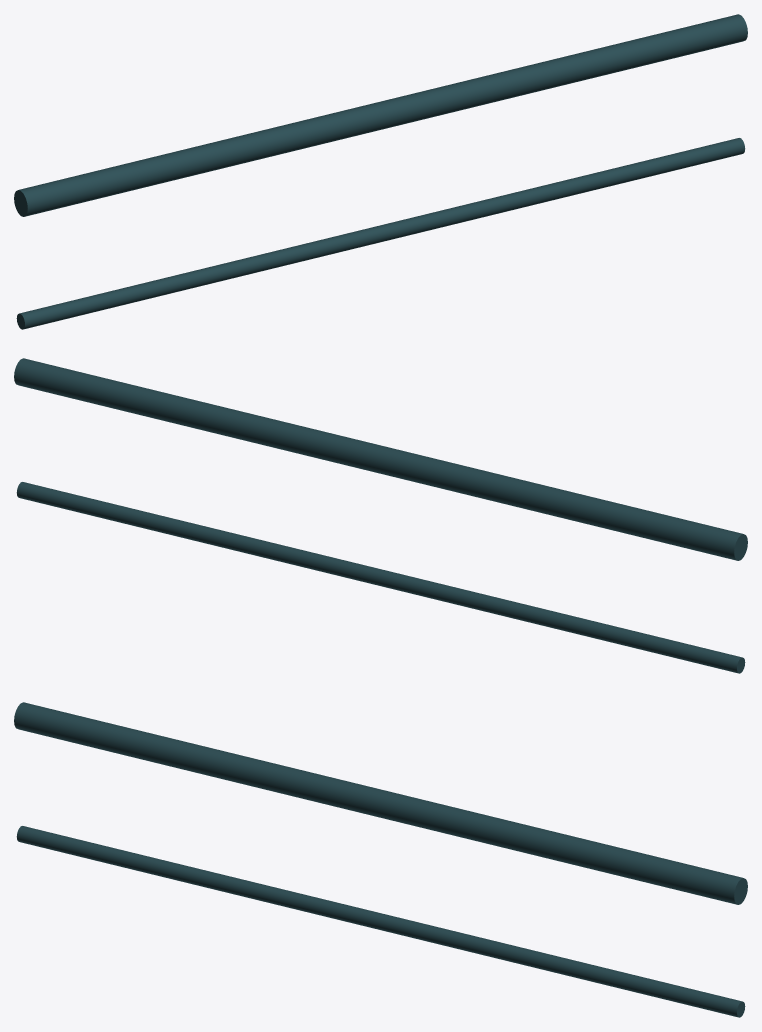
Rendered from city_quay_furniture_02_straight.glb.
The picture shows the model from 3 angles, top to bottom: view 1: azimuth 30°, elevation 25°; view 2: azimuth 150°, elevation 25°; view 3: azimuth 330°, elevation 25°; orthographic projection.
Visible parts, largest first — view 1: CityQuayFurniture02_straight_Mesh; view 2: CityQuayFurniture02_straight_Mesh; view 3: CityQuayFurniture02_straight_Mesh.
Part boxes in pixels (box(x1,y1,x2,y2)): CityQuayFurniture02_straight_Mesh: box(14, 14, 747, 329); CityQuayFurniture02_straight_Mesh: box(14, 358, 747, 673); CityQuayFurniture02_straight_Mesh: box(14, 702, 747, 1017).
Size of the model in its own units: 3 by 0.55 by 0.1.
